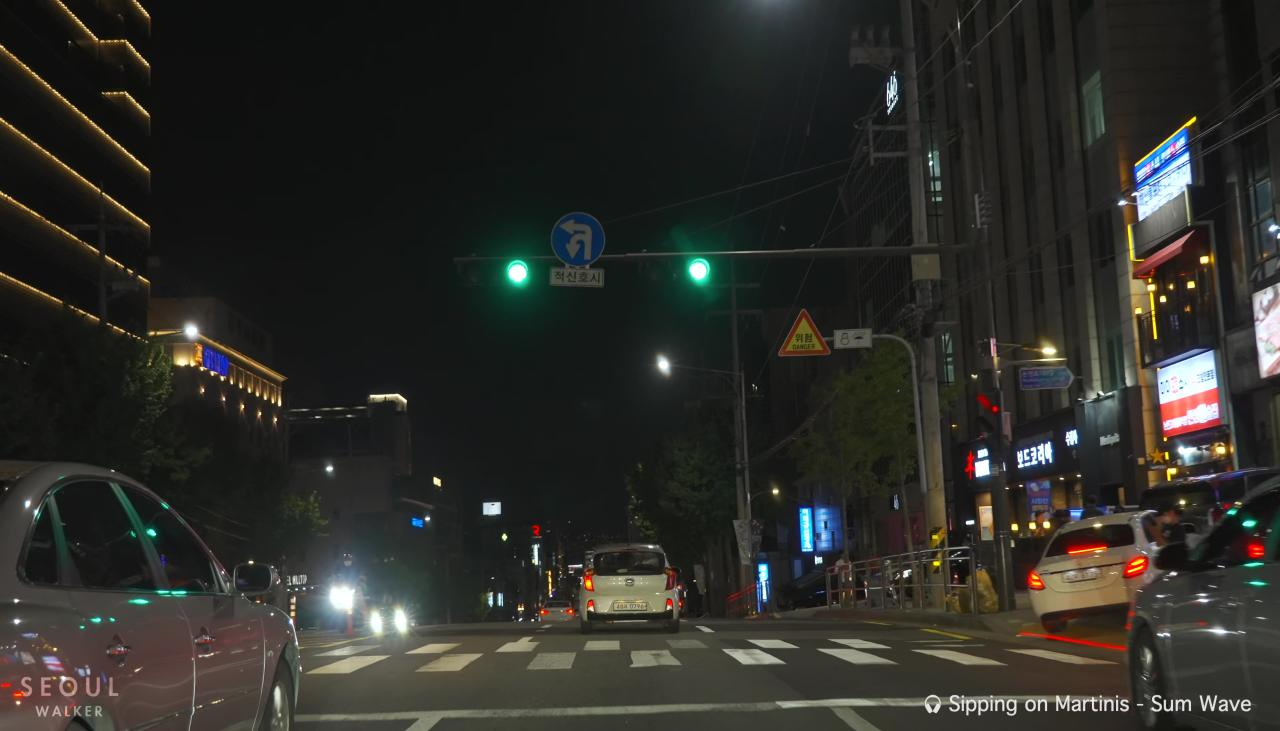Green Light: (505, 258, 530, 287), (686, 256, 711, 285)
